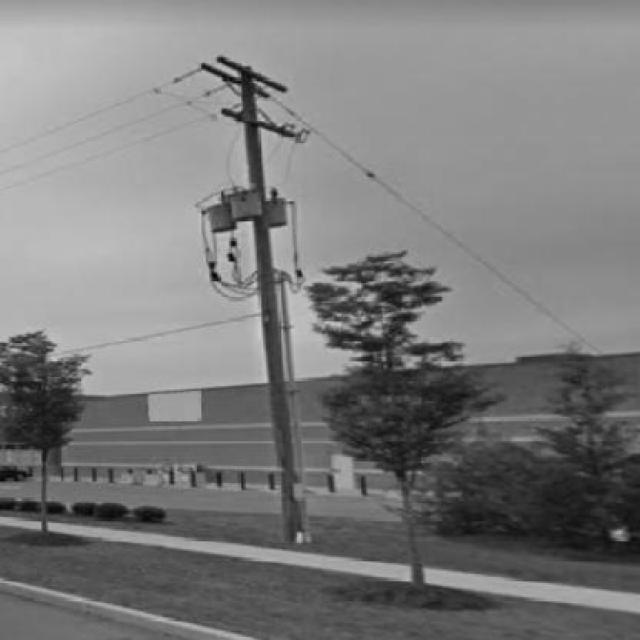pole: (140, 26, 385, 580)
